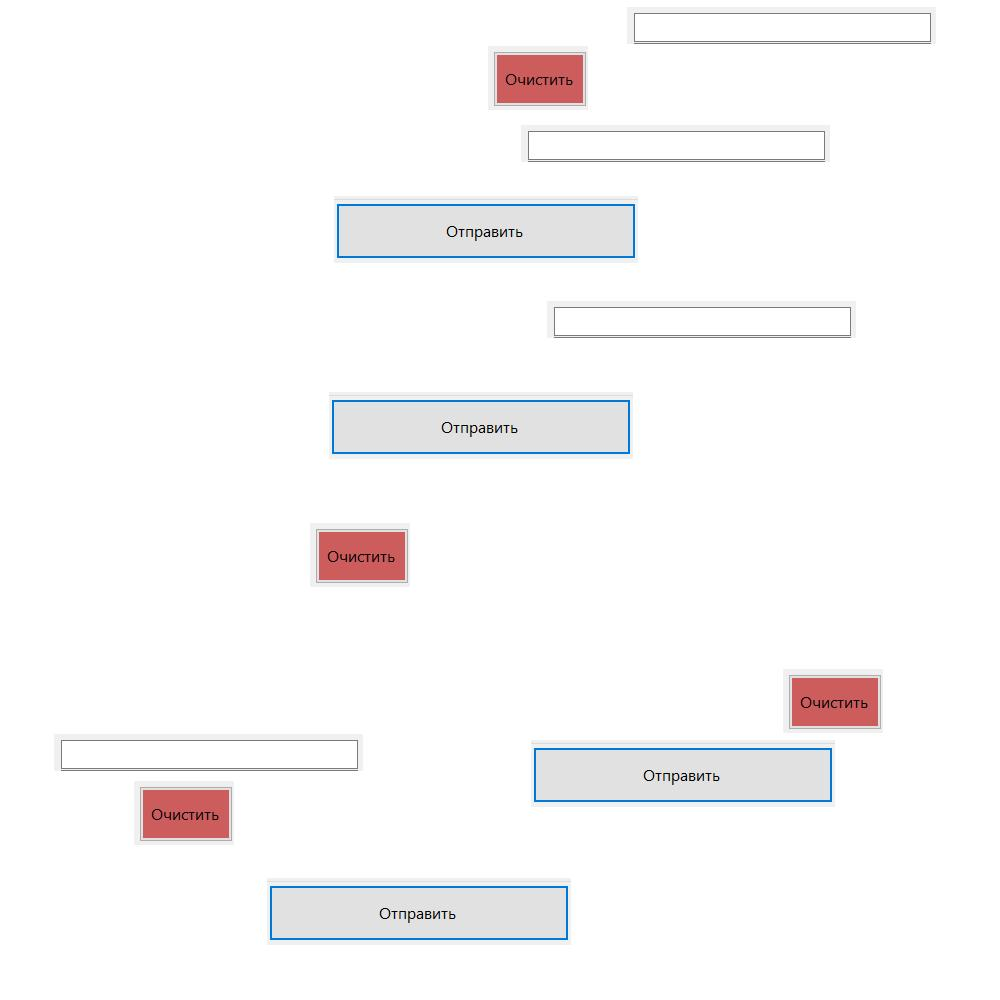Button: (267, 878, 571, 945), (334, 196, 638, 263), (329, 392, 633, 459), (531, 740, 835, 807), (783, 669, 883, 733), (488, 46, 588, 110), (134, 781, 234, 845), (310, 523, 410, 587)
EditText-: (521, 125, 830, 162), (547, 301, 856, 338), (54, 734, 363, 771), (627, 7, 936, 44)
